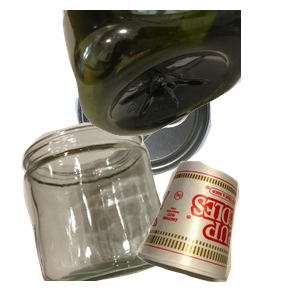glass: (19, 120, 184, 300)
metal: (73, 42, 277, 212)
plastic: (60, 10, 300, 139)
trash: (133, 158, 300, 300)
